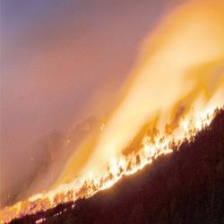fire: (91, 95, 216, 176)
